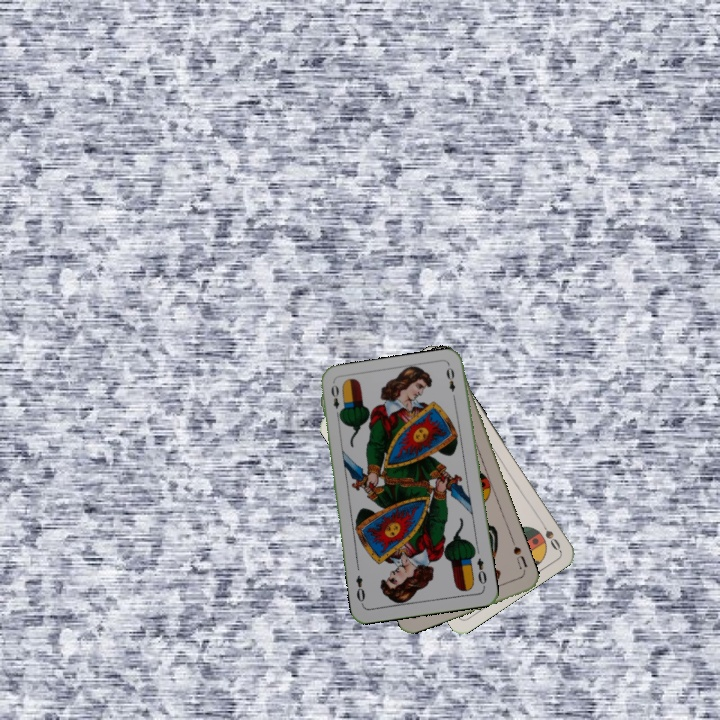EO: (327, 381, 345, 421), (473, 554, 489, 590)
SO: (536, 516, 563, 553)
SU: (509, 542, 530, 576)
